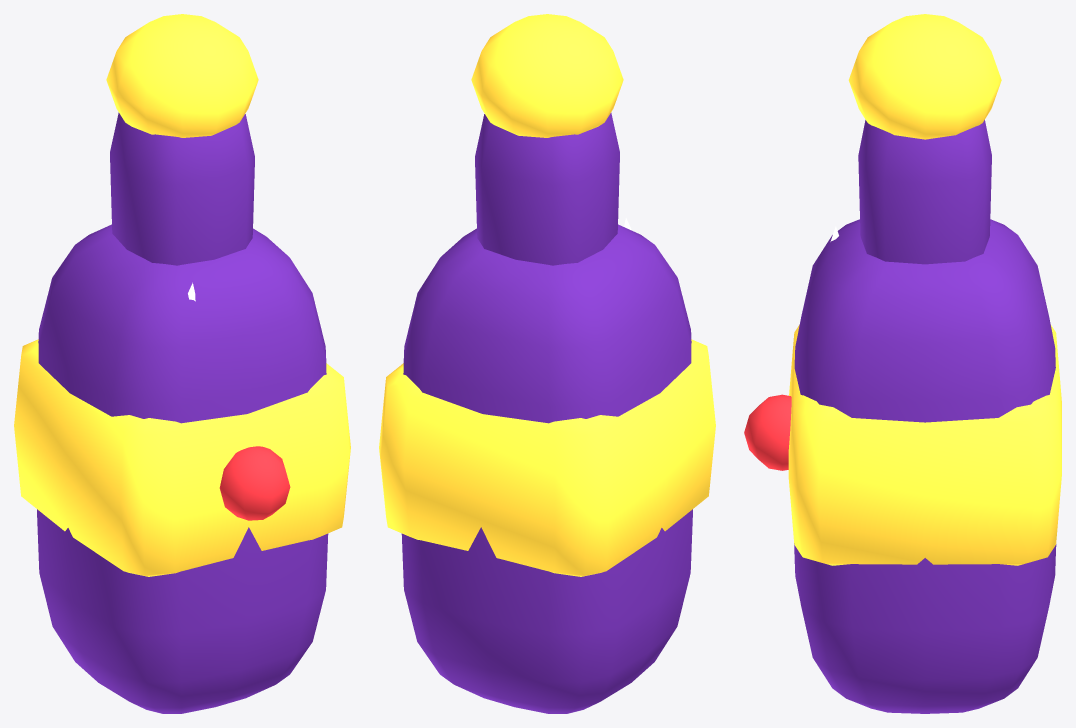
The model's file is wine.glb.
3 views of the same model, side by side, from view 1: azimuth 30°, elevation 25°; view 2: azimuth 150°, elevation 25°; view 3: azimuth 270°, elevation 25° (orthographic).
Parts seen in each view (by area): view 1: item; view 2: item; view 3: item.
Part boxes in pixels (bbox=[...]): item: bbox=[14, 14, 350, 713]; item: bbox=[379, 14, 715, 713]; item: bbox=[744, 14, 1061, 713].
Bounding box in the file's own units: 0.216 × 0.58 × 0.2492.
1 material, 1 textured.
